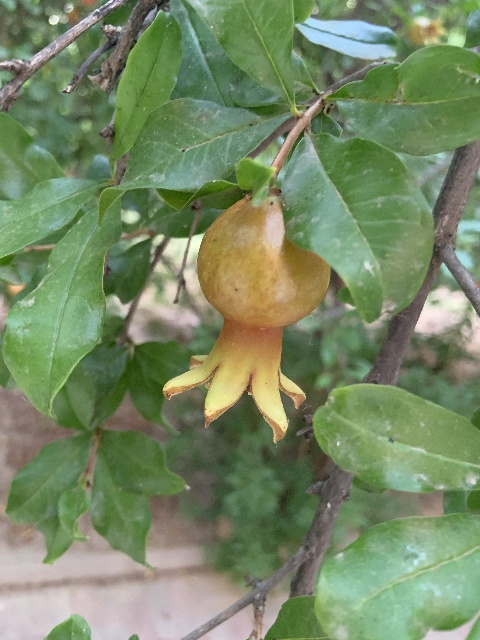early-fruit: (162, 193, 331, 442)
